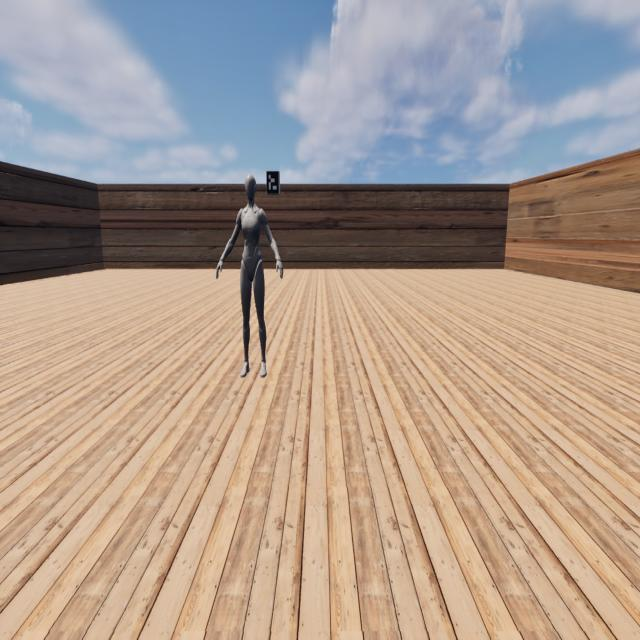aruco: (267, 170, 279, 193)
hip: (240, 259, 264, 268)
